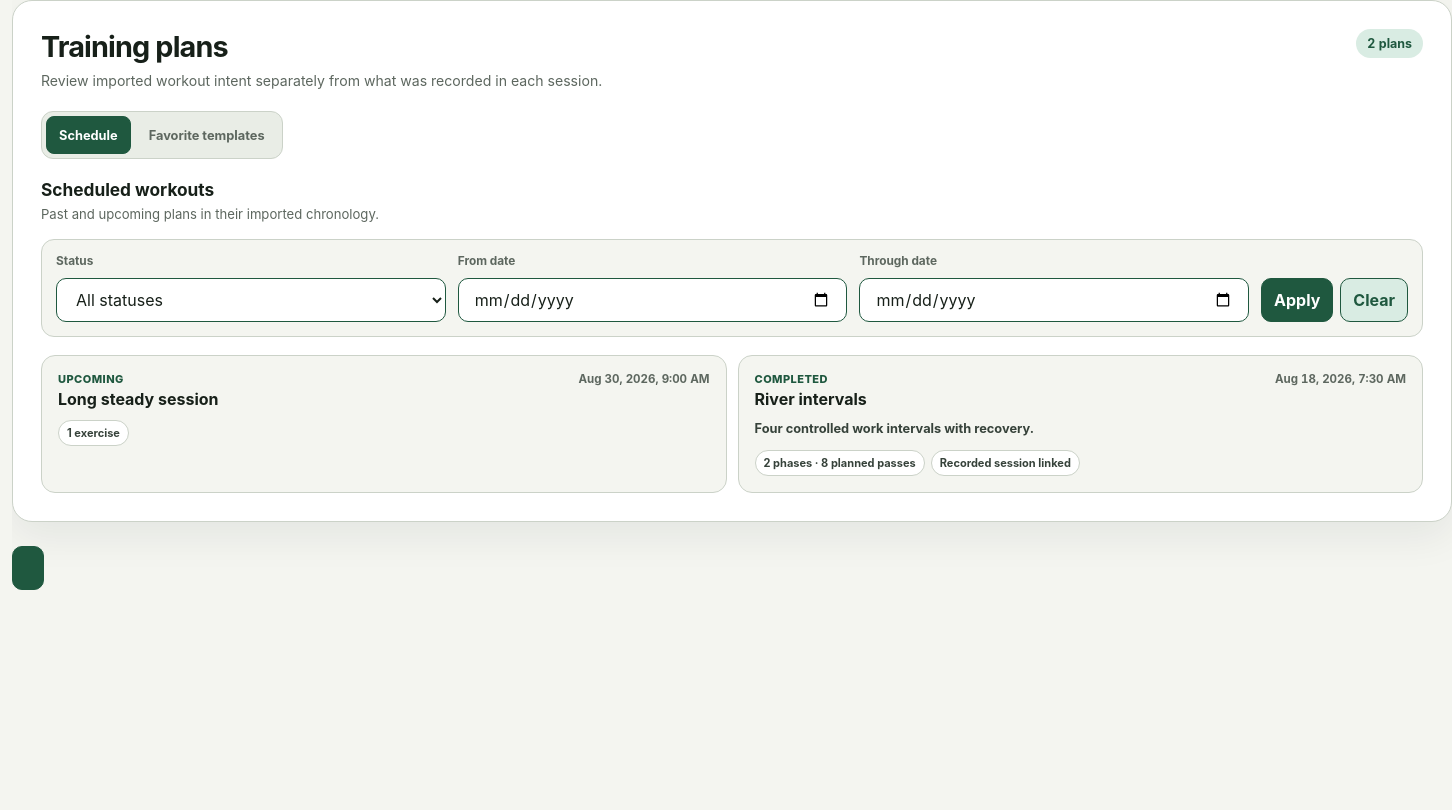
Test: PlannedTrainingPanel › keeps a long plan concise until exact phase detail is requested
The image size is (1452, 810).
Click the button with aria-label "Review River intervals". click: (791, 379)
box: [738, 355, 1423, 493]
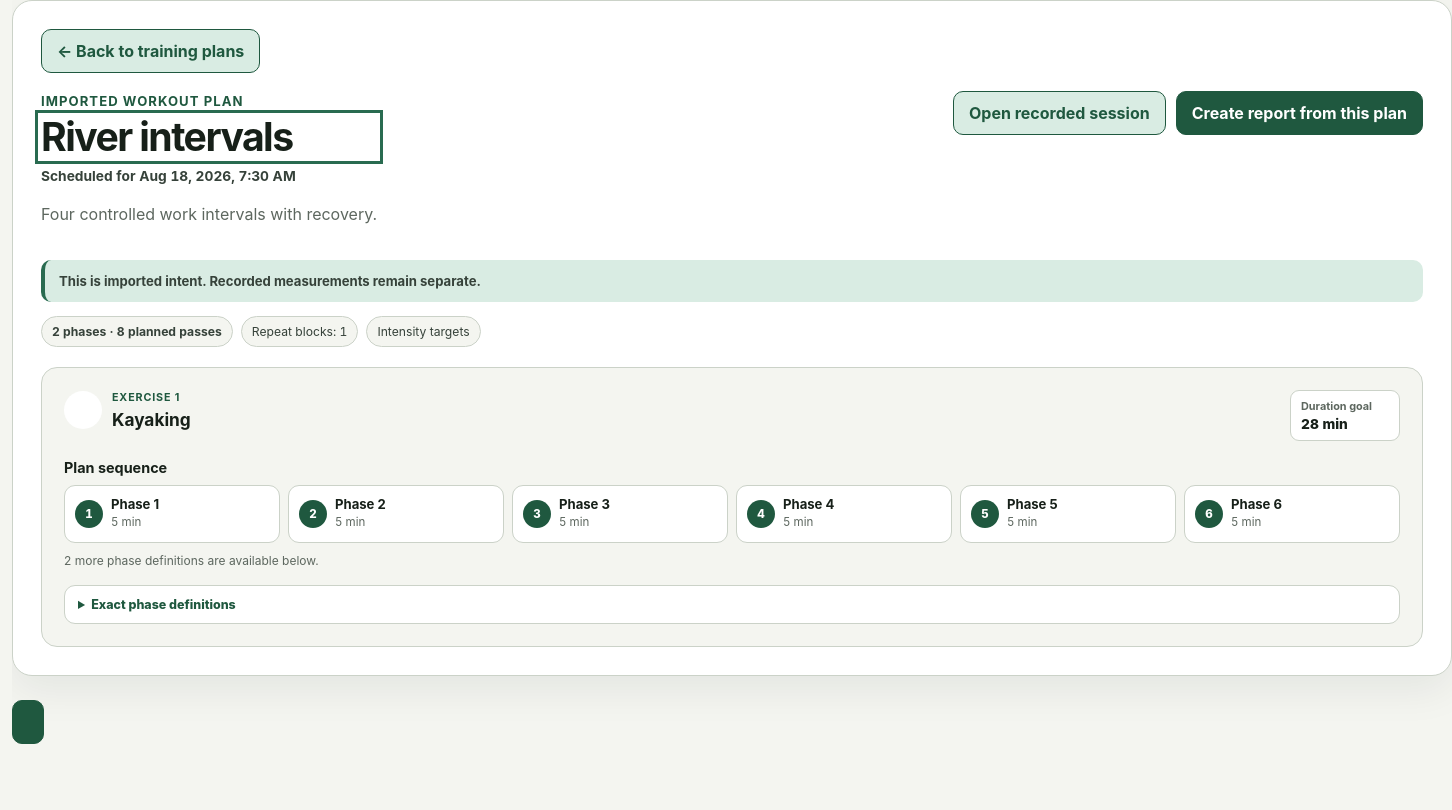
Check: the text "2 more phase definitions are available below." is shown, box [64, 553, 319, 568]
